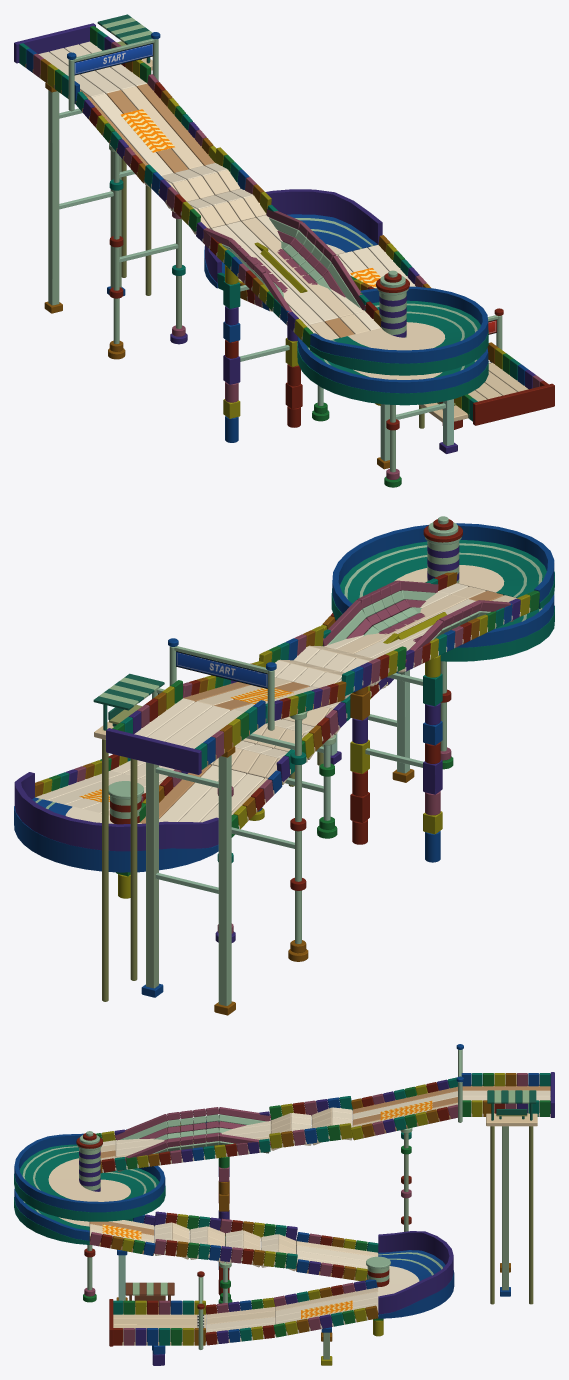
The model's file is wooden-chute.glb.
3 renders of one model, top to bottom at view 1: azimuth 30°, elevation 25°; view 2: azimuth 150°, elevation 25°; view 3: azimuth 270°, elevation 25°, orthographic. The views are drawn at different scales.
Parts seen in each view (by area): view 1: stage0; view 2: stage0; view 3: stage0.
Part boxes in pixels (box(x1,y1,x2,y2)): stage0: box(14, 14, 554, 487); stage0: box(14, 516, 554, 1015); stage0: box(14, 1044, 554, 1365).
Bounding box in the file's own units: 57.5 × 56.6 × 126.
Materials: 7 (4 with a texture image).
